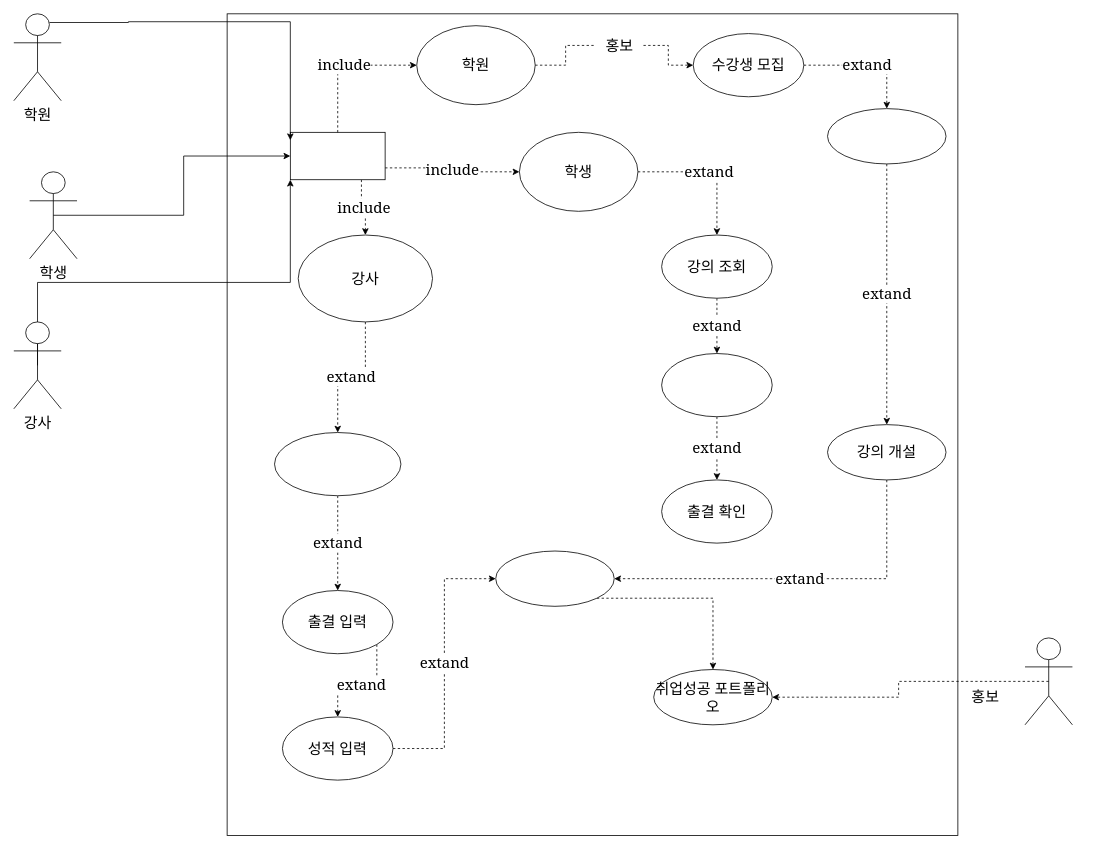
Some shapes in this 1099 by 849 pixel diagram are drawn without their labels. The box of each missing label's shape, as (x1, y1, x2, y2) in pixels:
login: (290, 132, 385, 180)
수강 신청: (661, 353, 772, 417)
수강생 정보 조회/입력: (274, 432, 401, 496)
예비 수강생: (1024, 637, 1072, 725)
일정 등록: (827, 108, 946, 164)
취업 지원: (495, 550, 614, 606)
